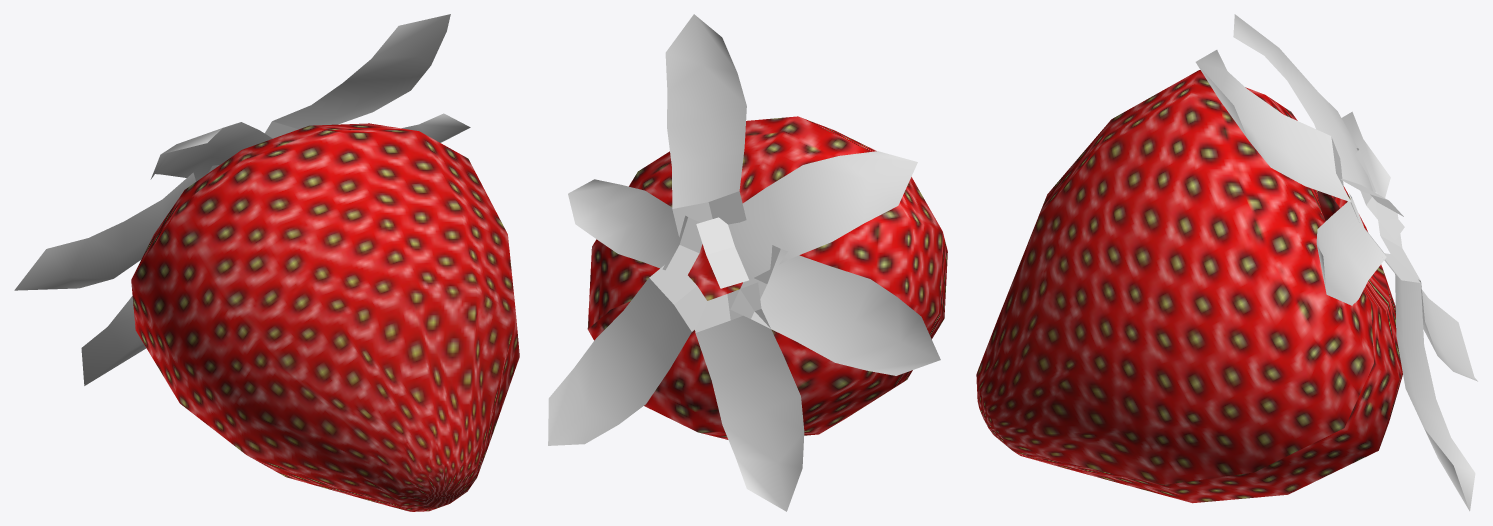
File: fraise.FBX
The picture shows the model from 3 angles, left to right: view 1: azimuth 30°, elevation 25°; view 2: azimuth 150°, elevation 25°; view 3: azimuth 270°, elevation 25°; orthographic projection. The views are drawn at different scales.
Visible parts, largest first — view 1: fraise_base, fraise_feuilles; view 2: fraise_feuilles, fraise_base; view 3: fraise_base, fraise_feuilles.
Boxes of the visible parts, x1,y1,x2,y2 form: fraise_base: (131, 123, 519, 511); fraise_feuilles: (14, 14, 470, 385); fraise_feuilles: (548, 14, 940, 511); fraise_base: (587, 116, 947, 439); fraise_base: (976, 70, 1402, 503); fraise_feuilles: (1195, 14, 1477, 511).
Size of the model in its own units: 83.94 by 80.15 by 77.83.
